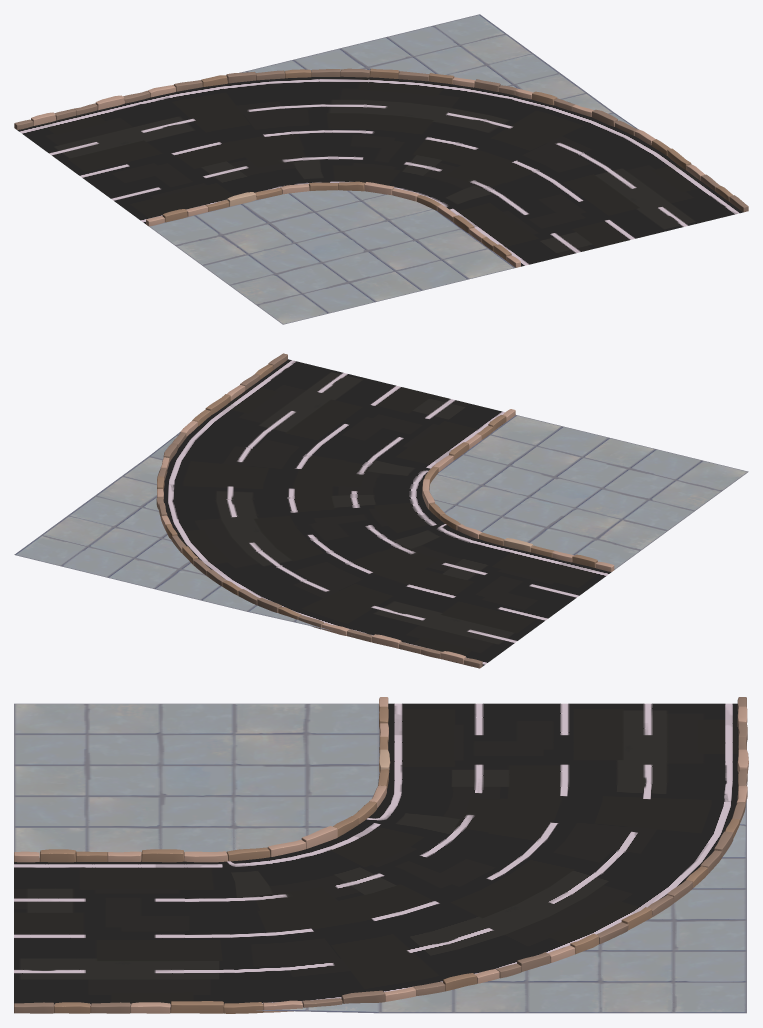
The model's file is CityRoad_longTurnWide.fbx.
3 renders of one model, top to bottom at view 1: azimuth 30°, elevation 25°; view 2: azimuth 150°, elevation 25°; view 3: azimuth 270°, elevation 25°, orthographic. The views are drawn at different scales.
Visible parts, largest first — view 1: CityRoad_longTurnWide_mesh; view 2: CityRoad_longTurnWide_mesh; view 3: CityRoad_longTurnWide_mesh.
Boxes of the visible parts, x1,y1,x2,y2 form: CityRoad_longTurnWide_mesh: [14, 14, 748, 324]; CityRoad_longTurnWide_mesh: [14, 353, 748, 668]; CityRoad_longTurnWide_mesh: [14, 697, 748, 1013].
Bounding box in the file's own units: 2004 × 28.55 × 2006.
